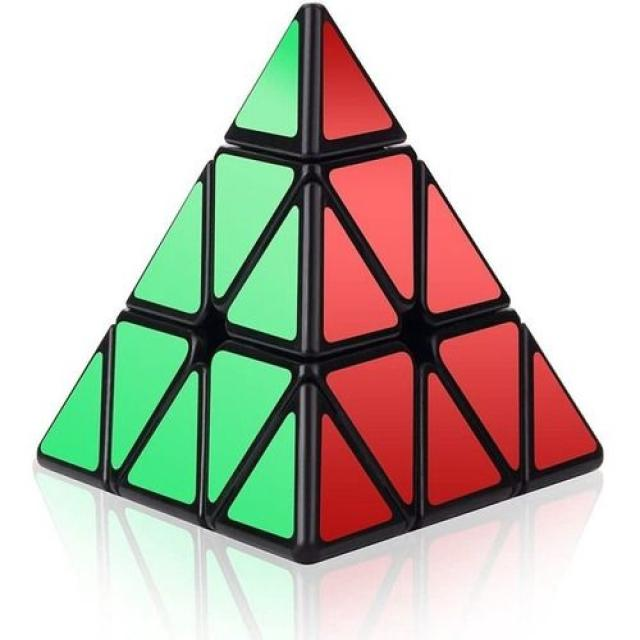Pyraminx: (34, 0, 607, 567)
